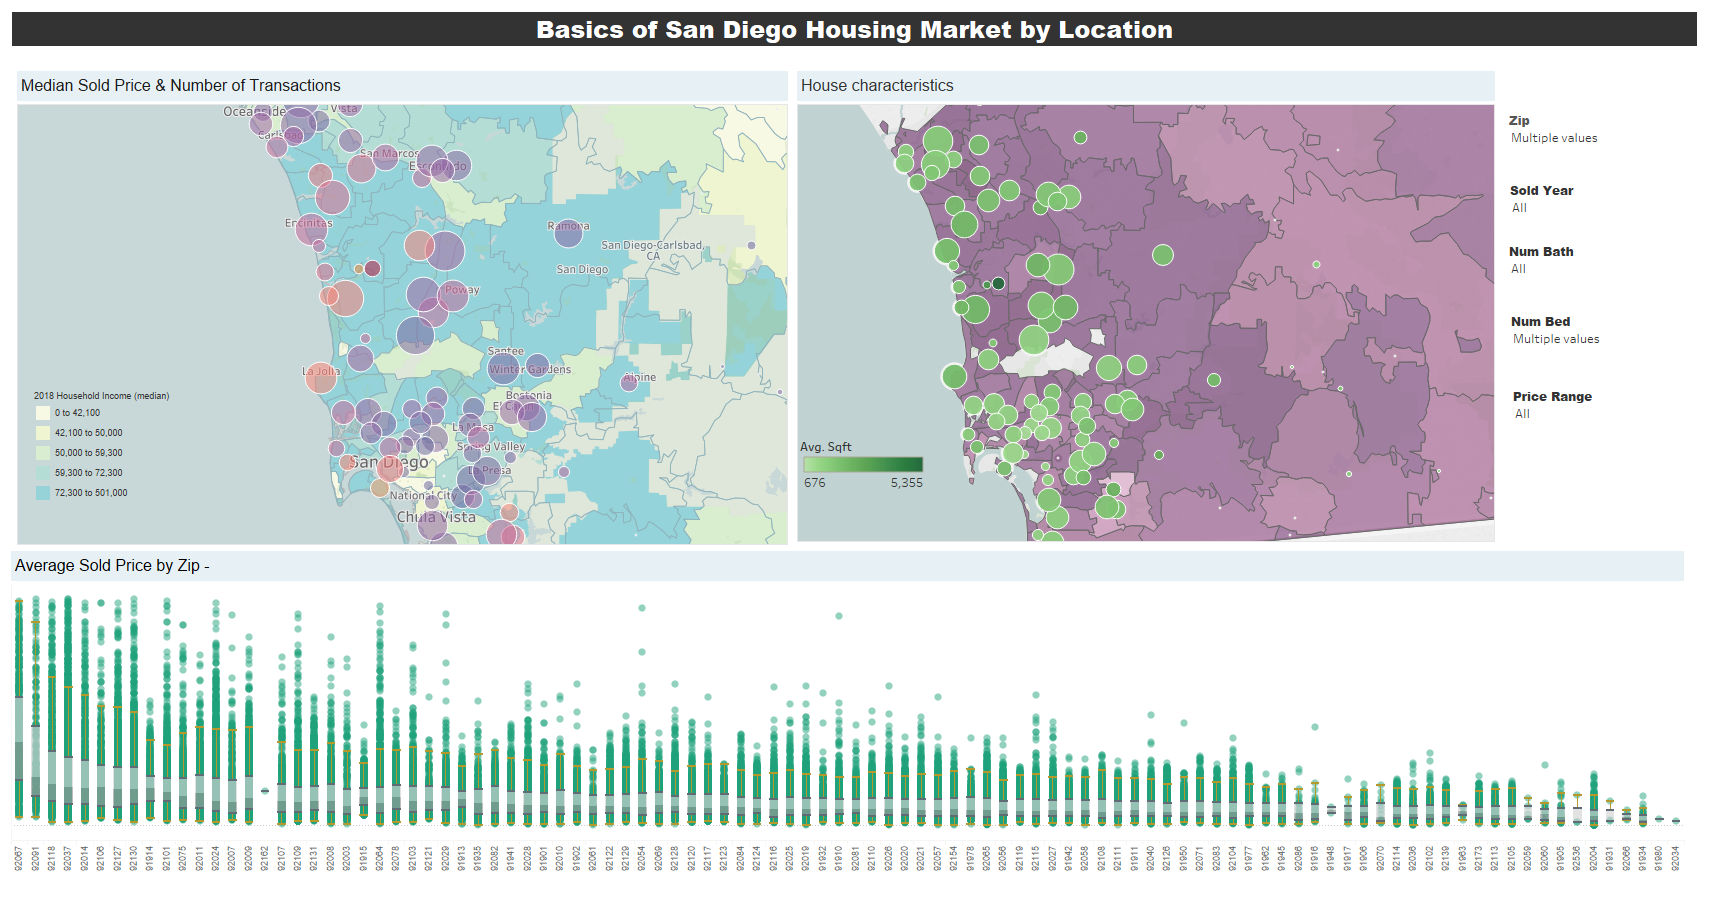

This screenshot's page, from the dashboard's own definition file:
{"tool":"tableau","page":{"name":"Dashboard 1","canvas":[1000,1000],"units":"permille","ordinal":0},"visuals":[{"type":"title","box":[4.7,8.8,990.6,46.5]},{"type":"worksheet","title":"map1","mark":"Automatic","box":[7.9,74.3,455.6,533.1]},{"type":"worksheet","title":"Sheet 24","mark":"Multipolygon","box":[464.2,74.3,413,529.6]},{"type":"filter","title":"scatter price zip","param":"[federated.1k7wuoq0t5ub6q183kvkb0c32lxh].[none:zip:ok]","box":[880.5,118.5,101.4,74.3]},{"type":"filter","title":"Sheet 24","param":"[federated.1k7wuoq0t5ub6q183kvkb0c32lxh].[yr:date:ok]","box":[881.1,196.3,101.4,70.9]},{"type":"filter","title":"map1","param":"[federated.1k7wuoq0t5ub6q183kvkb0c32lxh].[none:num_bath:ok]","box":[880.5,263.6,101.4,82.5]},{"type":"filter","title":"map1","param":"[federated.1k7wuoq0t5ub6q183kvkb0c32lxh].[none:num_bed:ok]","box":[881.7,340.3,101.4,86]},{"type":"filter","title":"map1","param":"[federated.1k7wuoq0t5ub6q183kvkb0c32lxh].[Sold Price (group)]","box":[882.9,423.9,101.4,102.2]},{"type":"legend","title":"map1","box":[16.9,426.2,114.7,137.1]},{"type":"legend","title":"Sheet 24","param":"[federated.1k7wuoq0t5ub6q183kvkb0c32lxh].[avg:sqft:qk]","box":[465.9,476.2,79.7,88.3]},{"type":"worksheet","title":"scatter price zip","mark":"Circle","rows":["sold_price"],"cols":["zip"],"box":[4.2,605.1,983.7,372.8]}]}

Visuals, with their boxes on the dashboard's canvas, which has no fixed pixel size, in thousandths of its width and height (x1, y1, x2, y2). These are canvas units, not pixel positions in the 1709x904 screenshot, which may show the page scaled, cropped or inside an application window:
title: Rect(5, 9, 995, 55)
"map1" worksheet: Rect(8, 74, 464, 607)
"Sheet 24" worksheet (Multipolygon marks): Rect(464, 74, 877, 604)
"scatter price zip" filter: Rect(880, 118, 982, 193)
"Sheet 24" filter: Rect(881, 196, 982, 267)
"map1" filter: Rect(880, 264, 982, 346)
"map1" filter: Rect(882, 340, 983, 426)
"map1" filter: Rect(883, 424, 984, 526)
"map1" legend: Rect(17, 426, 132, 563)
"Sheet 24" legend: Rect(466, 476, 546, 564)
"scatter price zip" worksheet (Circle marks): Rect(4, 605, 988, 978)
